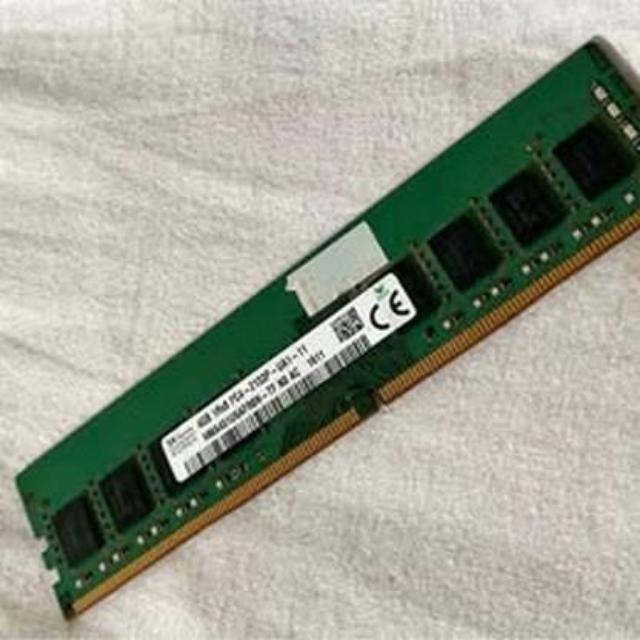RAM: (14, 43, 640, 628)
